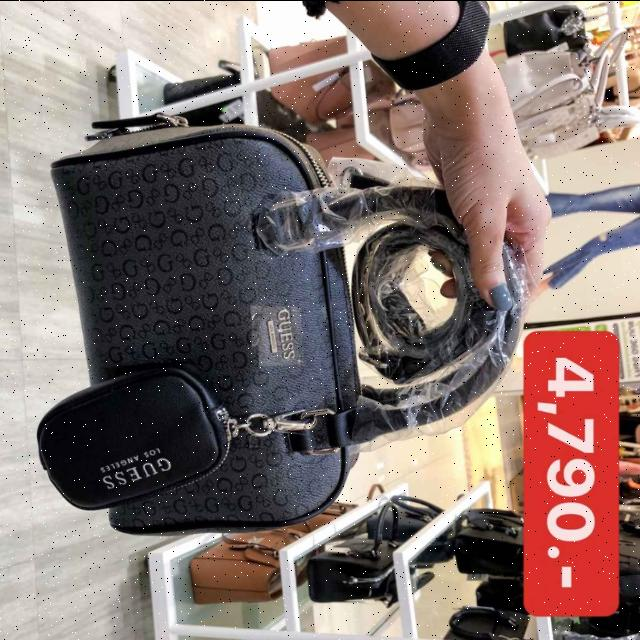Handbag: (26, 97, 382, 544)
